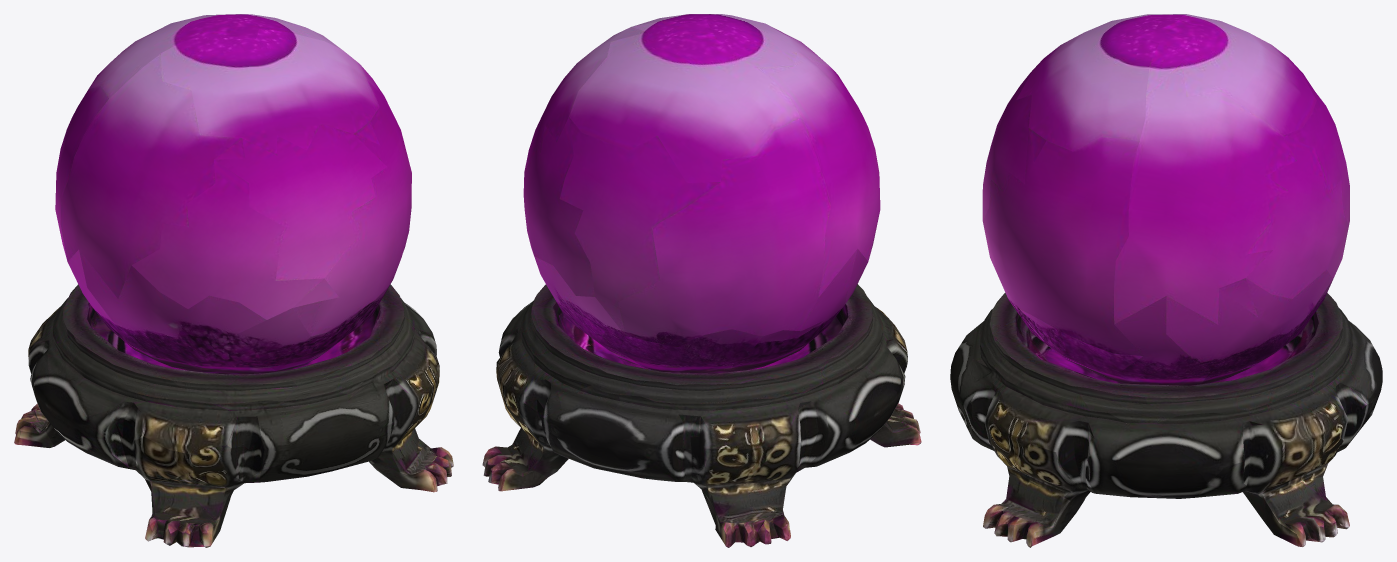
File: crystal-ball.glb
3 views of the same model, side by side, from view 1: azimuth 30°, elevation 25°; view 2: azimuth 150°, elevation 25°; view 3: azimuth 270°, elevation 25° (orthographic). The views are drawn at different scales.
Bounding box in the file's own units: 0.4915 × 0.55 × 0.4911.
Materials: 1 (1 with a texture image).
